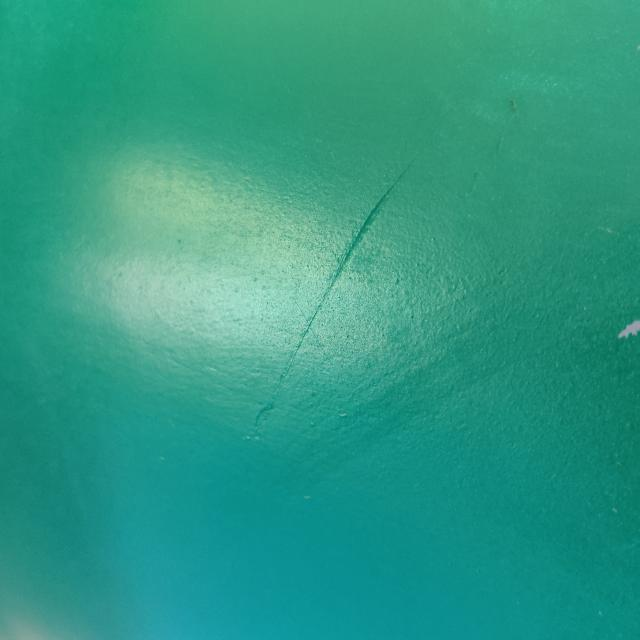Scratch: (258, 168, 412, 435)
